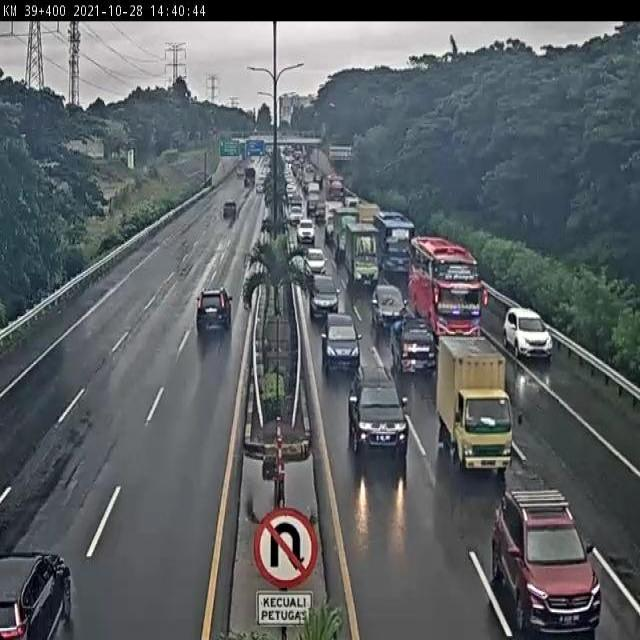big bus: (407, 235, 483, 345), (370, 209, 415, 276)
car: (491, 487, 604, 637), (347, 363, 410, 456), (502, 307, 556, 365), (390, 316, 438, 375), (319, 311, 362, 373), (195, 285, 233, 336), (369, 284, 406, 331), (308, 273, 340, 320), (302, 246, 328, 278)
mid truck: (344, 220, 381, 291)
truck-m-: (435, 333, 514, 475)
